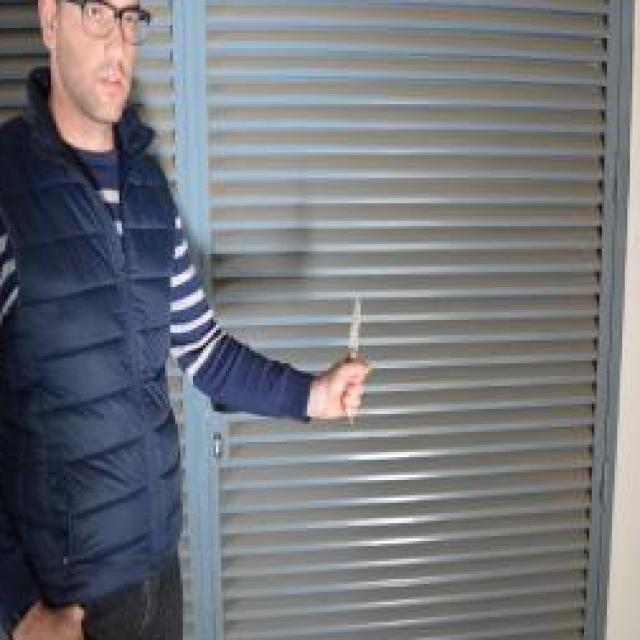knife: (341, 289, 368, 432)
